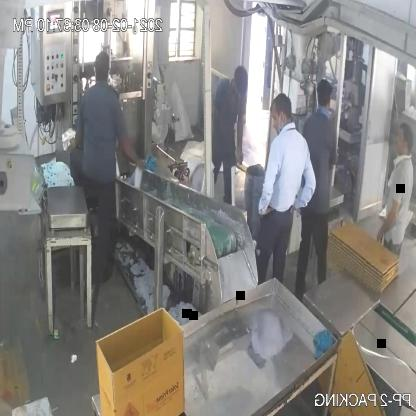no_glove: (371, 184, 409, 252), (256, 149, 279, 219), (118, 124, 152, 167), (293, 152, 317, 212), (230, 108, 250, 169)
